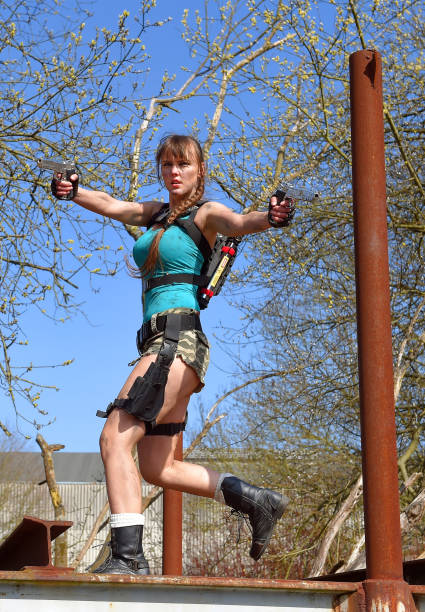gun: (37, 157, 78, 200)
